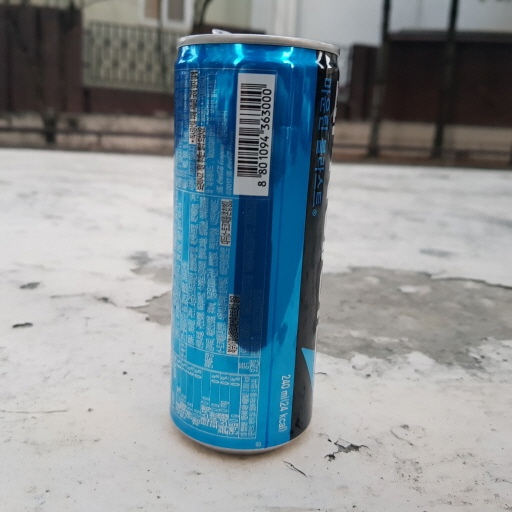Metal_0: (162, 26, 341, 458)
